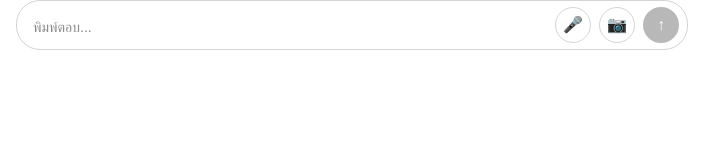
Test: Composer voice button › TM07 spoken text is added after what is already typed
The image size is (705, 160).
Type "ข้อ 2" into the text box labelled "พิมพ์ตอบ" at (290, 27), box [33, 11, 547, 43]
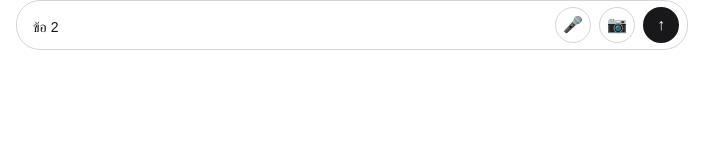
Press the mouse on the button named "กดค้างเพื่อพูด" at (573, 25), box [555, 7, 591, 43]
Wait 3000 ms
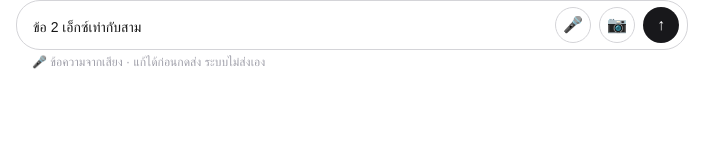
Now the text box named "พิมพ์ตอบ" holds "ข้อ 2 เอ็กซ์เท่ากับสาม", box [33, 11, 547, 43]
